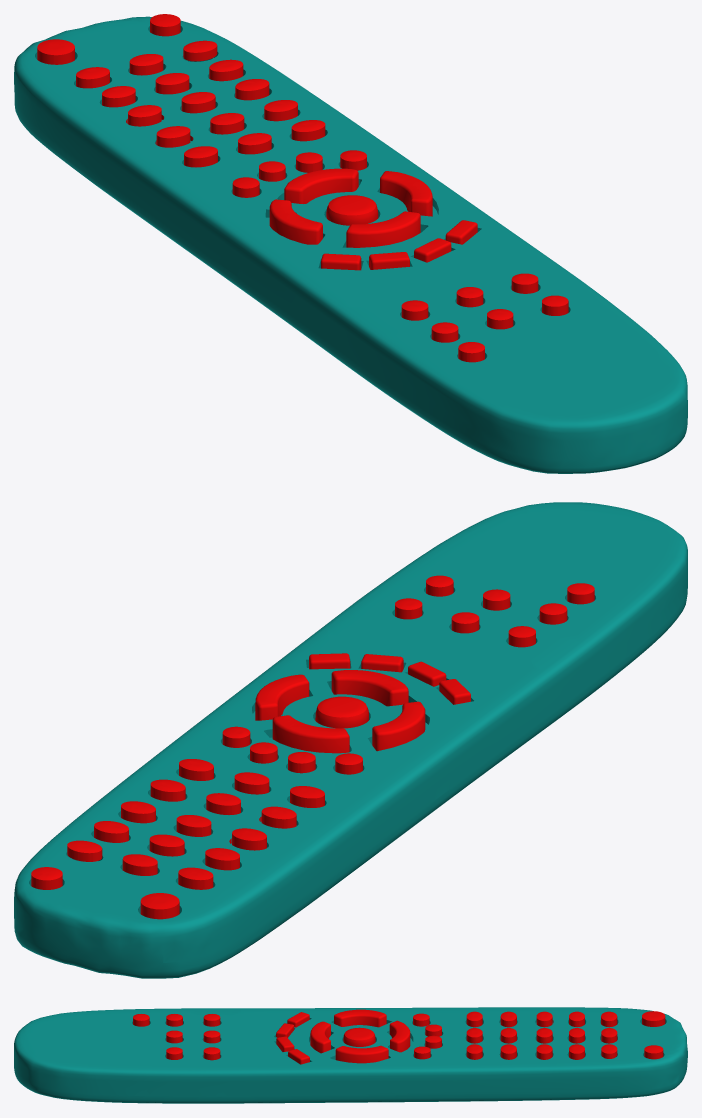
Rendered from N_TVRemote.fbx.
The picture shows the model from 3 angles, top to bottom: view 1: azimuth 30°, elevation 25°; view 2: azimuth 150°, elevation 25°; view 3: azimuth 270°, elevation 25°; orthographic projection. The views are drawn at different scales.
Parts seen in each view (by area): view 1: Box001; view 2: Box001; view 3: Box001.
Part boxes in pixels (left/top/right/bottom): Box001: left=14, top=14, right=687, bottom=473; Box001: left=14, top=502, right=687, bottom=978; Box001: left=14, top=1007, right=687, bottom=1103.
Size of the model in its own units: 11.37 by 3.24 by 48.36.
